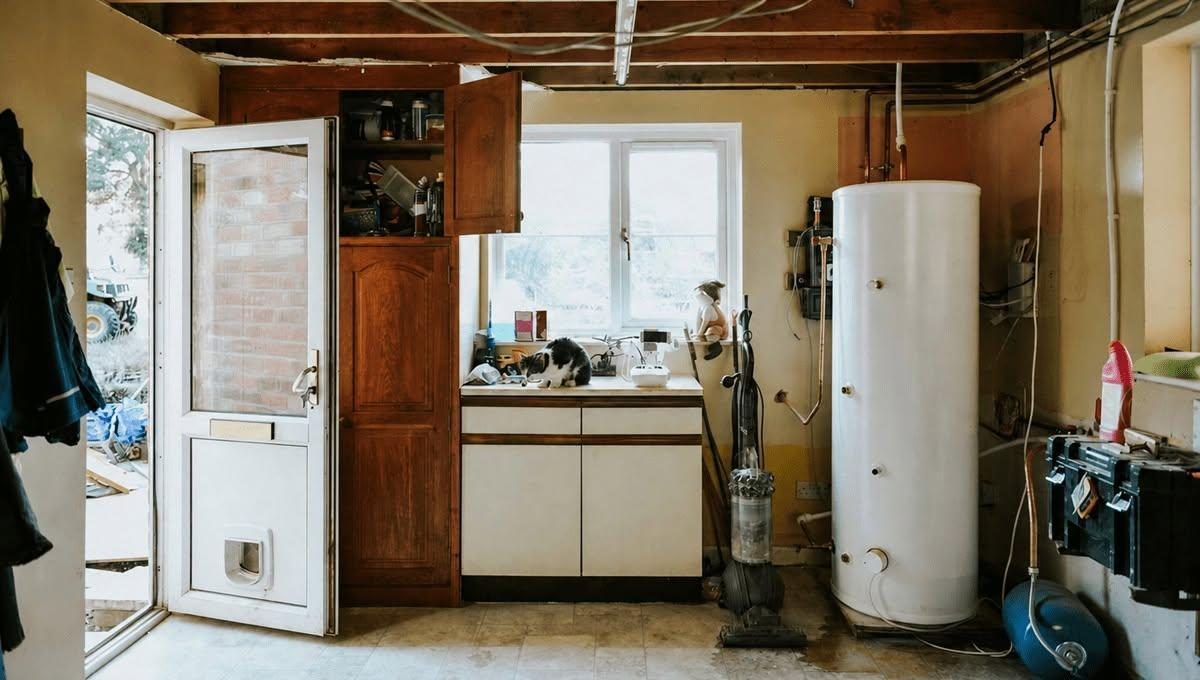water accumulation: (797, 604, 970, 680)
